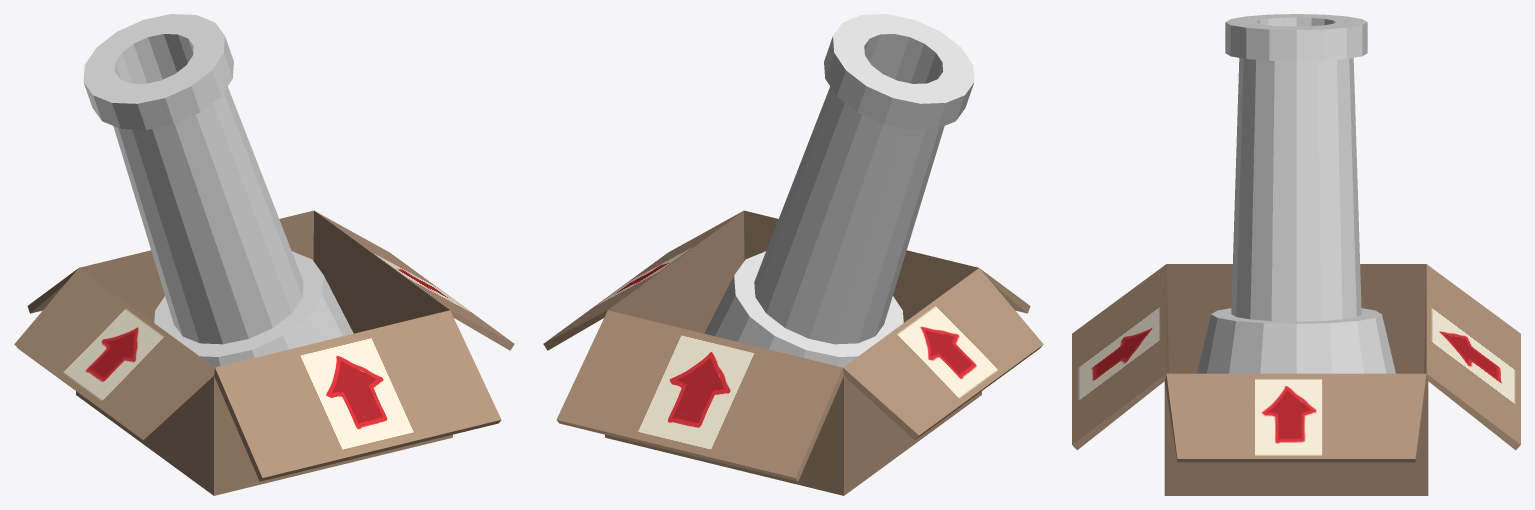
The model's file is box_tank.fbx.
The picture shows the model from 3 angles, left to right: view 1: azimuth 30°, elevation 25°; view 2: azimuth 150°, elevation 25°; view 3: azimuth 270°, elevation 25°; orthographic projection. The views are drawn at different scales.
Parts seen in each view (by area): view 1: Box, Cannon, Cannon_Base; view 2: Box, Cannon, Cannon_Base; view 3: Box, Cannon, Cannon_Base.
Boxes of the visible parts, x1=… form: Box: x1=14, y1=210, x2=514, y2=495; Cannon: x1=83, y1=14, x2=303, y2=344; Cannon_Base: x1=154, y1=251, x2=353, y2=367; Box: x1=543, y1=210, x2=1043, y2=495; Cannon: x1=754, y1=14, x2=974, y2=344; Cannon_Base: x1=704, y1=251, x2=903, y2=367; Box: x1=1072, y1=264, x2=1520, y2=495; Cannon: x1=1225, y1=14, x2=1367, y2=321; Cannon_Base: x1=1197, y1=308, x2=1395, y2=373.
Size of the model in its own units: 314 by 324 by 341.
Materials: 1 (1 with a texture image).
